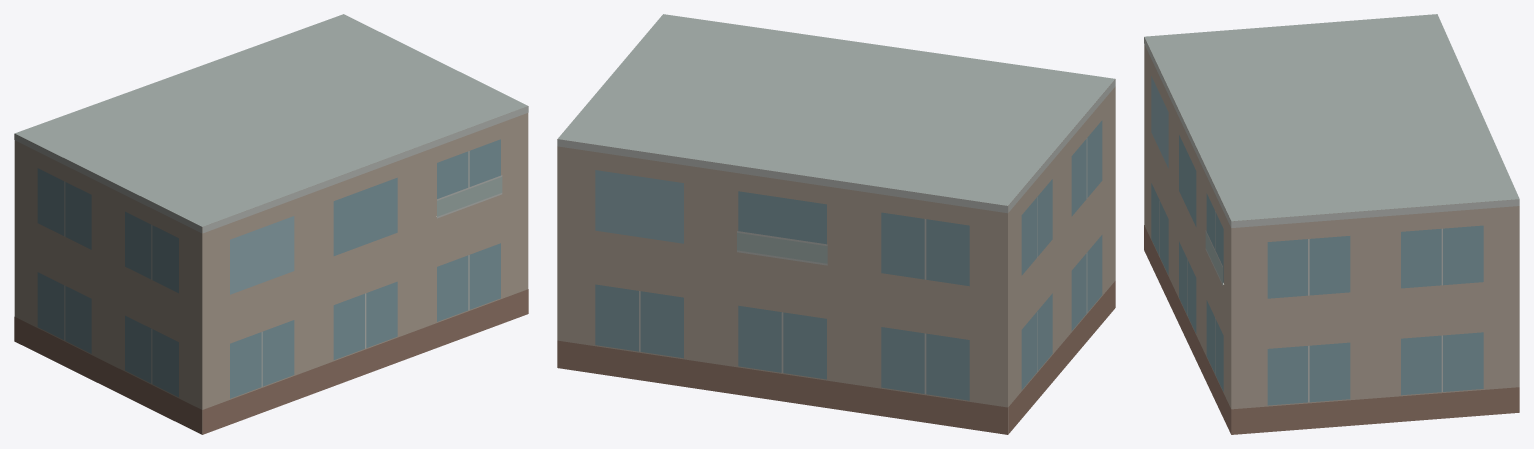
The model's file is survey-upis-33003764.glb.
3 renders of one model, left to right at view 1: azimuth 30°, elevation 25°; view 2: azimuth 150°, elevation 25°; view 3: azimuth 270°, elevation 25°, orthographic. The views are drawn at different scales.
Visible parts, largest first — view 1: survey-upis-33003764.tmp; view 2: survey-upis-33003764.tmp; view 3: survey-upis-33003764.tmp.
Boxes of the visible parts, x1,y1,x2,y2 form: survey-upis-33003764.tmp: [14, 14, 528, 434]; survey-upis-33003764.tmp: [557, 14, 1115, 434]; survey-upis-33003764.tmp: [1144, 14, 1519, 434].
Bounding box in the file's own units: 15.83 × 7.6 × 12.12.
